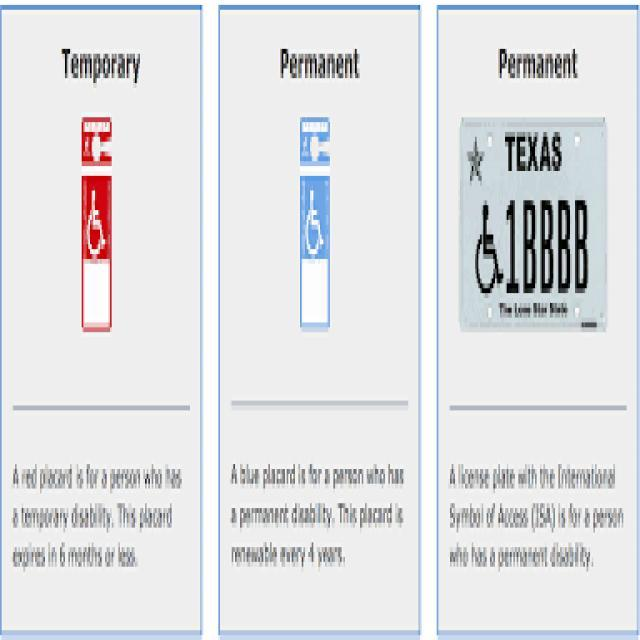symbol_of_access: (476, 194, 504, 297), (82, 185, 109, 268), (304, 186, 324, 260)
